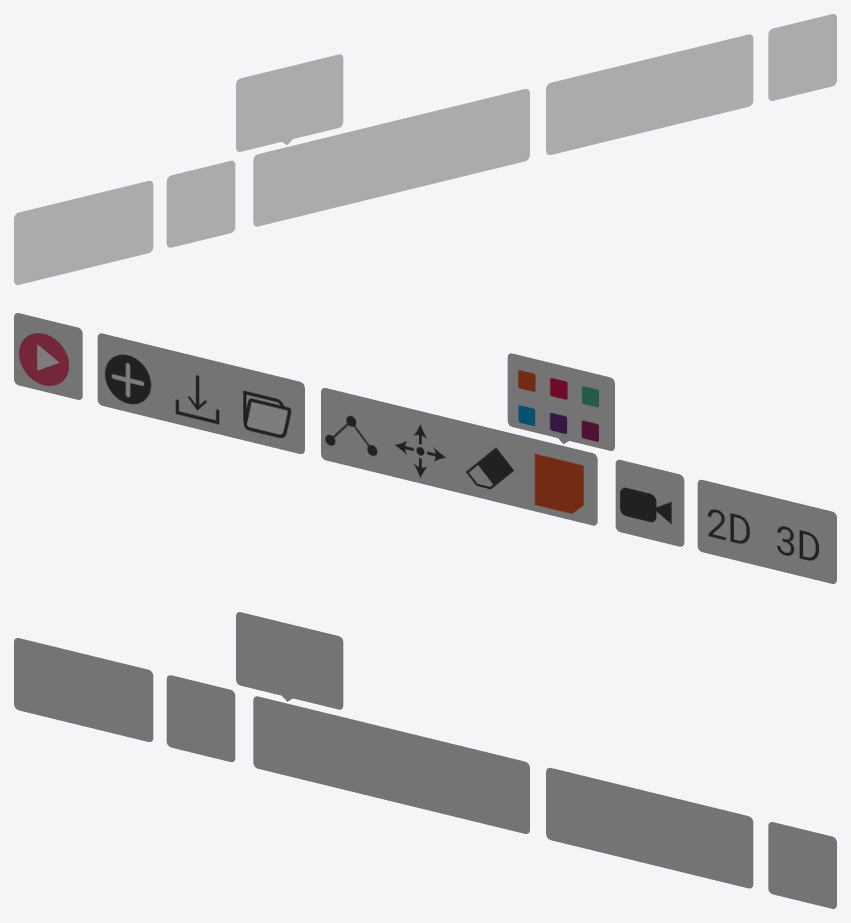
3 renders of one model, top to bottom at view 1: azimuth 30°, elevation 25°; view 2: azimuth 150°, elevation 25°; view 3: azimuth 330°, elevation 25°, orthographic.
Parts seen in each view (by area): view 1: background_ (3), background_ (2), background_ (5), background_ (6), background_ (4), background_; view 2: background_ (3), background_ (2), background_ (6), background_ (5), ui_draw, ui_move, ui_camera, ui_save, ui_new, ui_erase, ui_colorpicker, ui_3d (+11 smaller); view 3: background_ (3), background_ (2), background_ (5), background_ (6), background_ (4), background_.
Part boxes in pixels (left/top/right/bottom): background_ (3): left=253, top=89, right=529, bottom=226; background_ (2): left=546, top=34, right=753, bottom=154; background_ (5): left=14, top=180, right=153, bottom=284; background_ (6): left=236, top=54, right=343, bottom=151; background_ (4): left=166, top=160, right=235, bottom=247; background_: left=768, top=14, right=836, bottom=100; background_ (3): left=321, top=388, right=597, bottom=525; background_ (2): left=97, top=333, right=304, bottom=453; background_ (6): left=507, top=353, right=614, bottom=450; background_ (5): left=697, top=479, right=836, bottom=583; ui_draw: left=324, top=400, right=378, bottom=468; ui_move: left=393, top=417, right=447, bottom=485; ui_camera: left=619, top=472, right=672, bottom=540; ui_save: left=170, top=362, right=223, bottom=431; ui_new: left=101, top=345, right=154, bottom=414; ui_erase: left=463, top=433, right=516, bottom=502; ui_colorpicker: left=532, top=450, right=585, bottom=519; ui_3d: left=770, top=508, right=823, bottom=577; background_ (3): left=253, top=696, right=529, bottom=833; background_ (2): left=546, top=767, right=753, bottom=888; background_ (5): left=14, top=638, right=153, bottom=741; background_ (6): left=236, top=612, right=343, bottom=709; background_ (4): left=166, top=675, right=235, bottom=761; background_: left=768, top=822, right=836, bottom=908.
Bounding box in the file's own units: 437 × 77.35 × 3.82.
